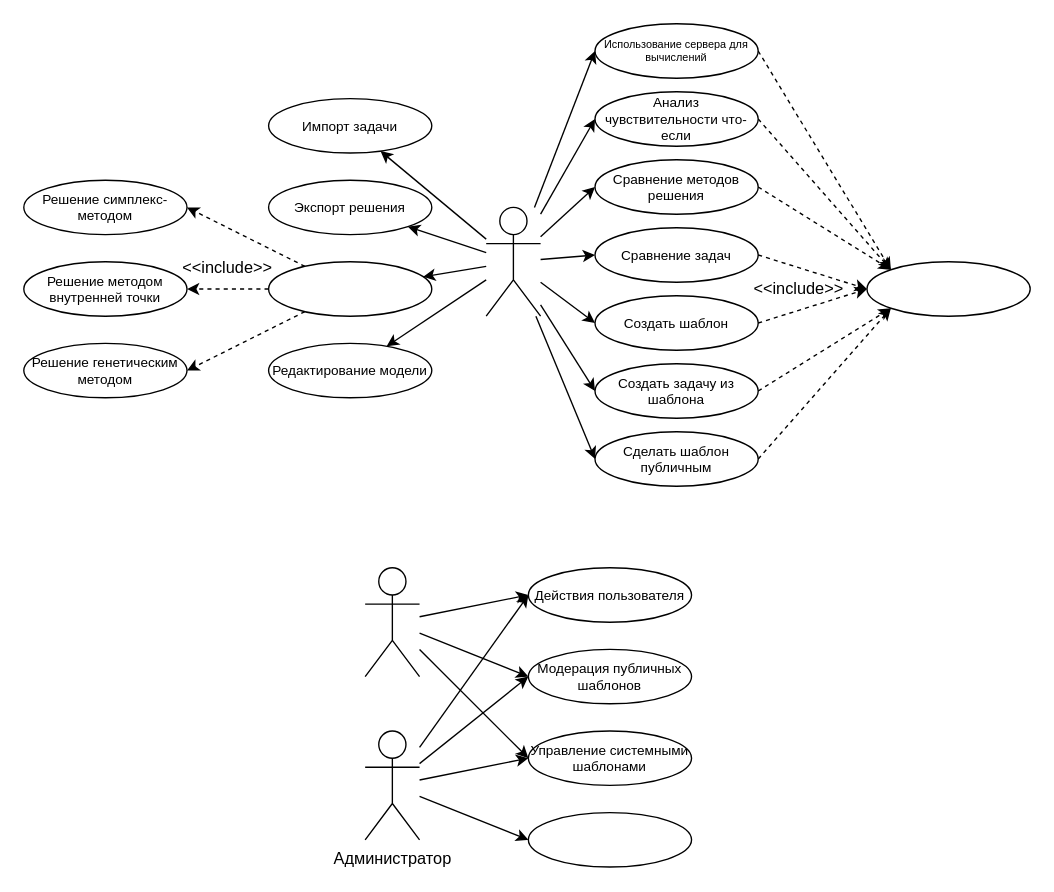
The diagram is 1054 pixels wide and 892 high, and some of its shapes have lost their labels. Here are the shapes that lost their labels. From the top down, the centre of each, then its label:
At pixel 513 261: "Пользователь".
At pixel 349 288: "Решение задачи".
At pixel 948 288: "Авторизация".
At pixel 392 621: "Модератор".
At pixel 609 839: "Управление учётными записями".
